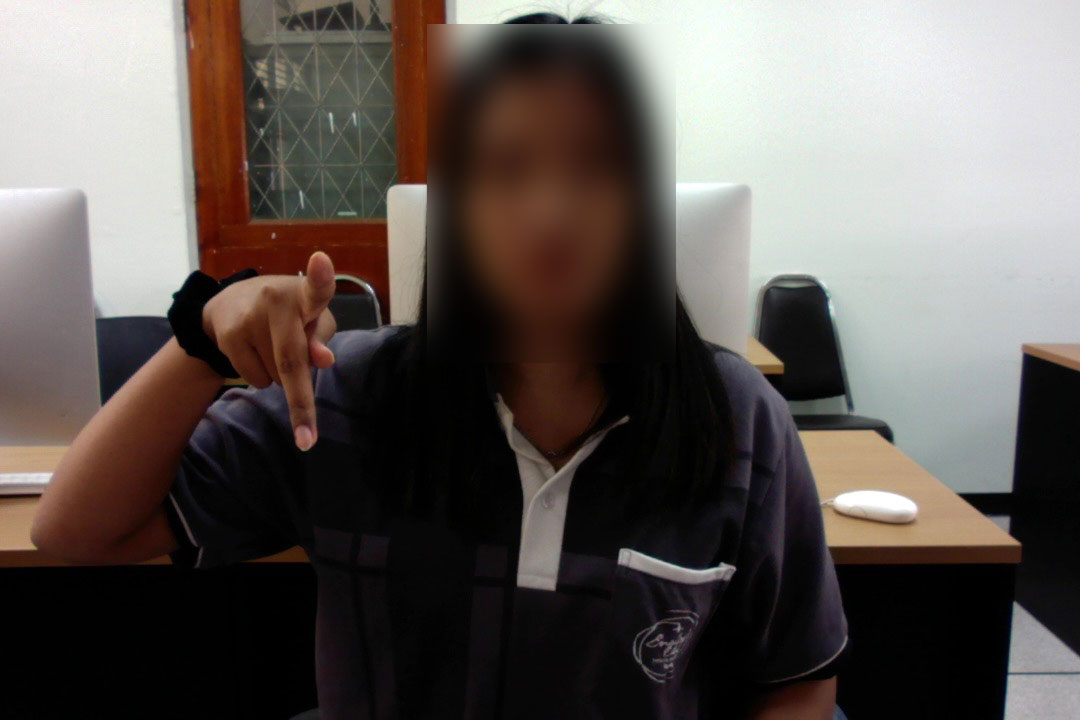por: (196, 243, 349, 458)
